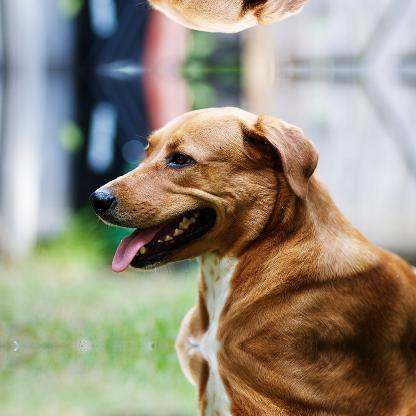Dog: (89, 106, 414, 344), (89, 345, 415, 415)
